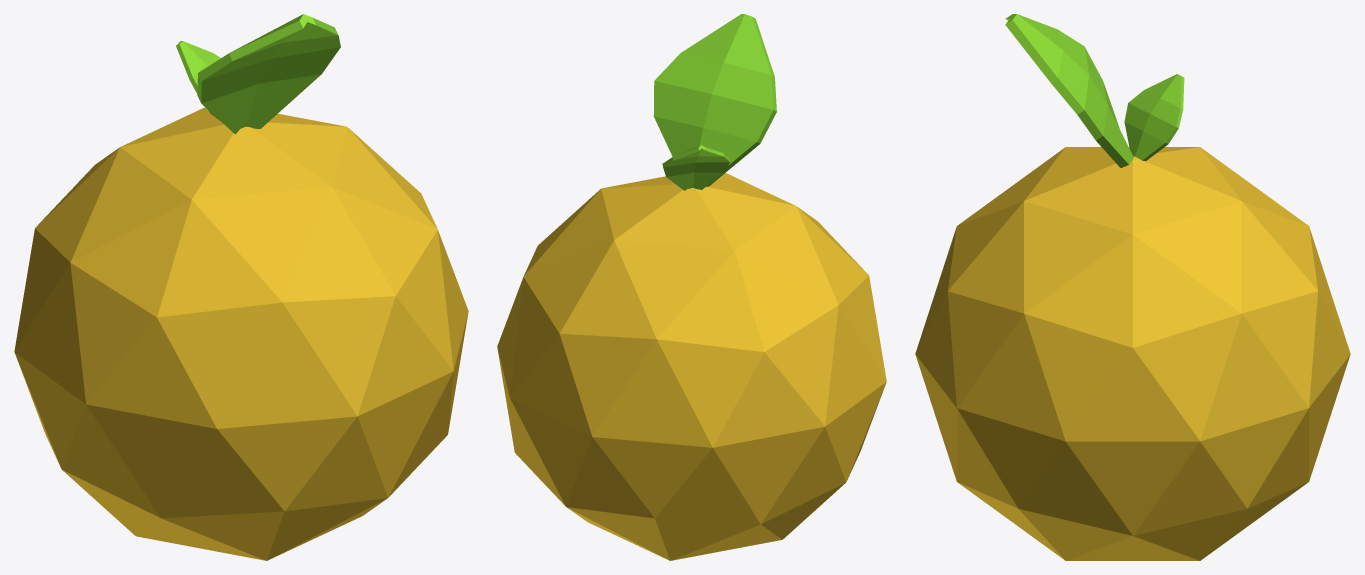
The model's file is lemon.fbx.
The picture shows the model from 3 angles, left to right: view 1: azimuth 30°, elevation 25°; view 2: azimuth 150°, elevation 25°; view 3: azimuth 270°, elevation 25°; orthographic projection. The views are drawn at different scales.
Parts seen in each view (by area): view 1: Cube.006; view 2: Cube.006; view 3: Cube.006.
Boxes of the visible parts, <box> form: Cube.006: <box>14,14,468,560</box>; Cube.006: <box>497,14,886,560</box>; Cube.006: <box>915,14,1350,560</box>.
Bounding box in the file's own units: 81.7 × 117 × 85.9.
